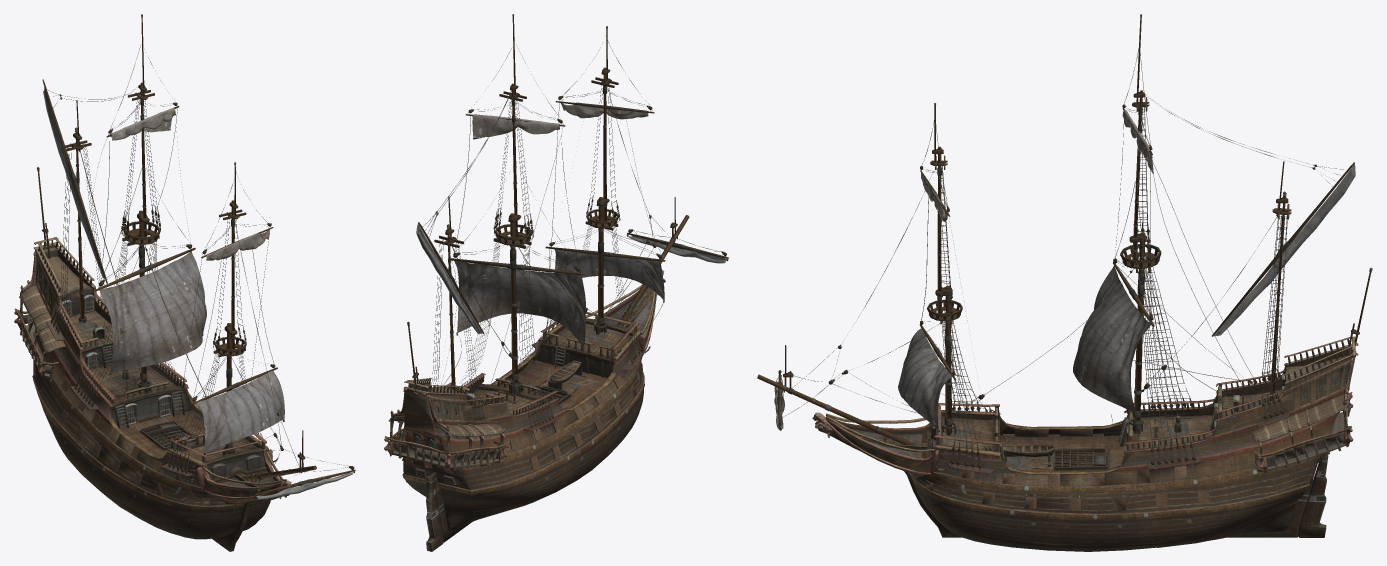
Rendered from ship.obj.
The picture shows the model from 3 angles, left to right: view 1: azimuth 30°, elevation 25°; view 2: azimuth 150°, elevation 25°; view 3: azimuth 270°, elevation 25°; orthographic projection. The views are drawn at different scales.
Visible parts, largest first — view 1: ship; view 2: ship; view 3: ship.
Boxes of the visible parts, box(x1,y1,x2,y2) form: ship: box(14, 14, 355, 551); ship: box(384, 14, 728, 551); ship: box(757, 14, 1372, 551).
Size of the model in its own units: 8.38 by 32.08 by 34.25.
Materials: 3 (3 with a texture image).
